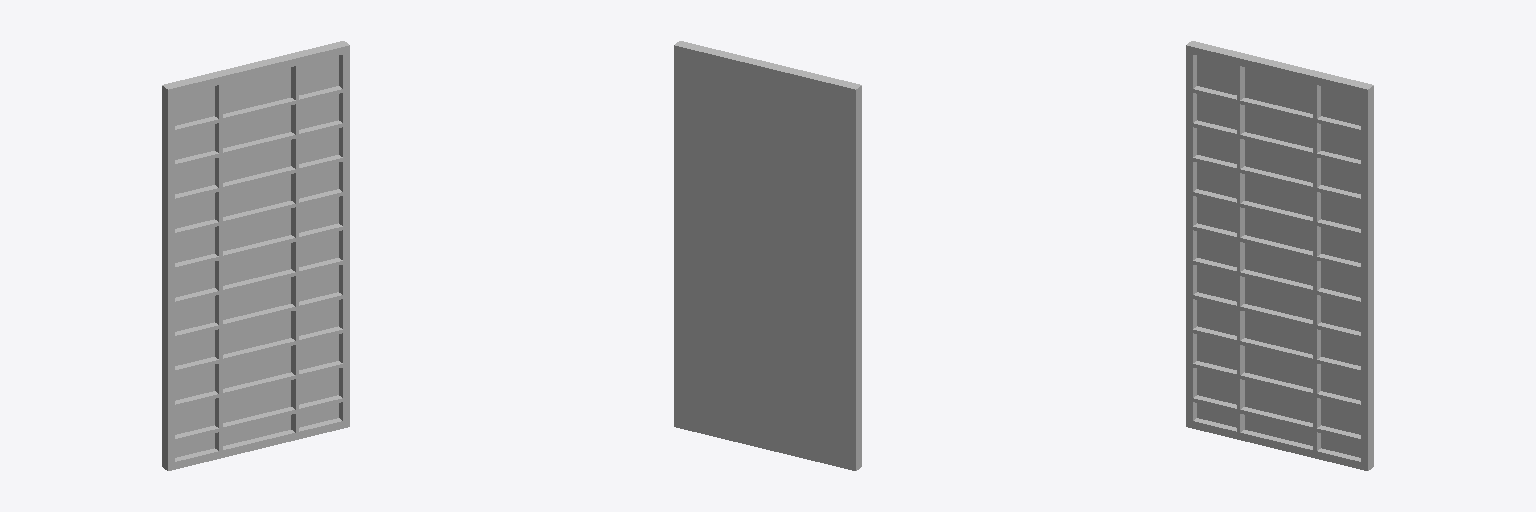
The model's file is wall.obj.
3 renders of one model, left to right at view 1: azimuth 30°, elevation 25°; view 2: azimuth 150°, elevation 25°; view 3: azimuth 330°, elevation 25°, orthographic.
Visible parts, largest first — view 1: object 1; view 2: object 1; view 3: object 1.
Boxes of the visible parts, x1,y1,x2,y2 form: object 1: [162, 41, 349, 470]; object 1: [674, 41, 861, 470]; object 1: [1186, 41, 1373, 470].
Bounding box in the file's own units: 5 × 10 × 0.3.